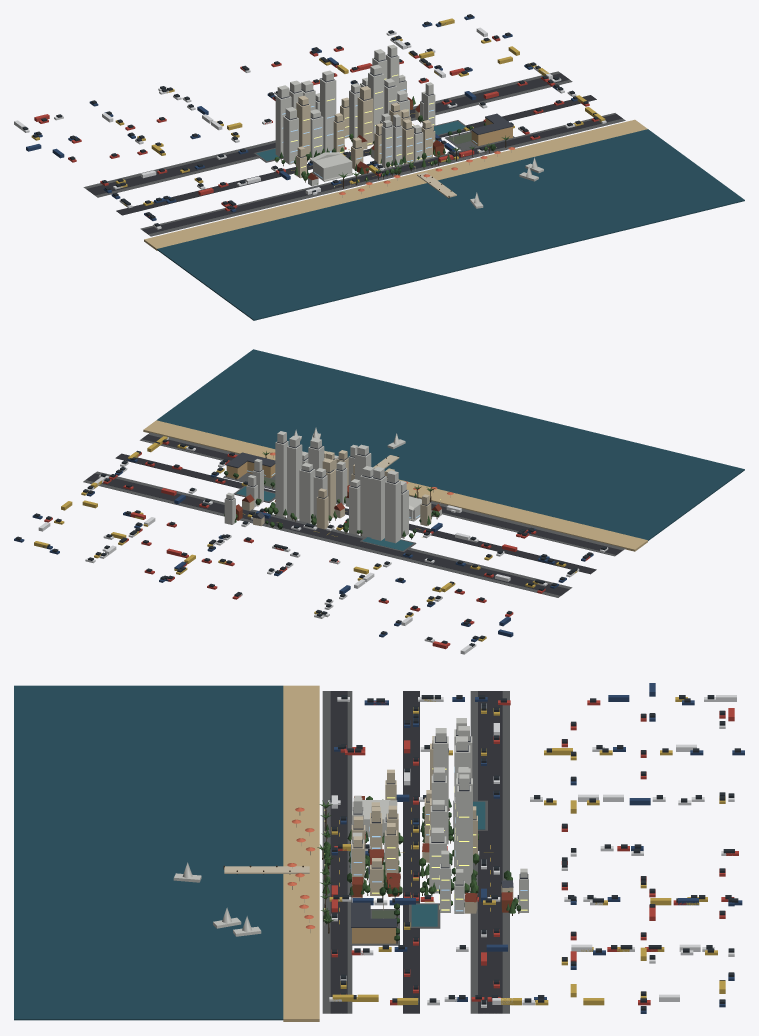
The model's file is maquette-ville-4.glb.
3 renders of one model, top to bottom at view 1: azimuth 30°, elevation 25°; view 2: azimuth 150°, elevation 25°; view 3: azimuth 270°, elevation 25°, orthographic. The views are drawn at different scales.
Parts seen in each view (by area): view 1: sea, beach_sand, promenade, avenue_z5, avenue_z3, apron_central, avenue_z4, tower_shaft_15, civic_body_2, tower_shaft_17, tower_shaft_19, tower_shaft_9 (+2 smaller); view 2: sea, beach_sand, avenue_z3, apron_central, avenue_z4, avenue_z5, promenade, tower_shaft_20, tower_shaft_8, tower_shaft_10, tower_shaft_22, tower_shaft_18 (+2 smaller); view 3: sea, beach_sand, avenue_z3, avenue_z5, avenue_z4, promenade, apron_central, tower_shaft_22, ponton_1, tower_shaft_23, etang_du_parc, tower_shaft_15.
Part boxes in pixels (<box>): sea: <box>157,129,744,320</box>; beach_sand: <box>144,119,647,250</box>; promenade: <box>140,113,625,236</box>; avenue_z5: <box>142,114,622,234</box>; avenue_z3: <box>86,73,569,195</box>; apron_central: <box>83,71,572,197</box>; avenue_z4: <box>116,95,596,215</box>; tower_shaft_15: <box>320,78,336,152</box>; civic_body_2: <box>313,153,352,179</box>; tower_shaft_17: <box>357,97,373,146</box>; tower_shaft_19: <box>368,72,384,141</box>; tower_shaft_9: <box>283,116,298,164</box>; sea: <box>157,349,744,540</box>; beach_sand: <box>143,420,647,551</box>; avenue_z3: <box>86,473,569,595</box>; apron_central: <box>83,471,572,597</box>; avenue_z4: <box>115,453,596,574</box>; avenue_z5: <box>142,434,622,554</box>; promenade: <box>140,432,625,556</box>; tower_shaft_20: <box>287,444,302,520</box>; tower_shaft_8: <box>385,480,400,543</box>; tower_shaft_10: <box>371,476,386,540</box>; tower_shaft_22: <box>275,441,288,516</box>; tower_shaft_18: <box>299,469,315,523</box>; sea: <box>14,685,283,1020</box>; beach_sand: <box>283,685,319,1021</box>; avenue_z3: <box>478,691,502,1013</box>; avenue_z5: <box>330,691,347,1013</box>; avenue_z4: <box>403,691,419,1013</box>; promenade: <box>322,691,352,1013</box>; apron_central: <box>470,691,509,1013</box>; tower_shaft_22: <box>457,786,471,892</box>; ponton_1: <box>224,866,309,873</box>; tower_shaft_23: <box>429,836,446,893</box>; etang_du_parc: <box>411,904,437,926</box>; tower_shaft_15: <box>433,736,448,844</box>.
Bounding box in the file's own units: 240 × 39.25 × 222.
